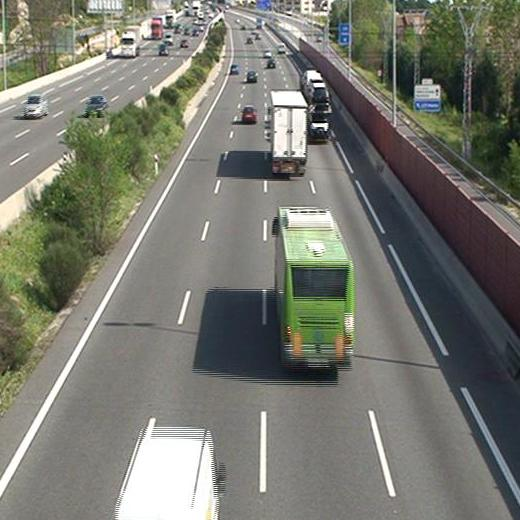bus: (273, 207, 354, 370)
car: (312, 82, 329, 107), (242, 105, 258, 123), (245, 71, 258, 85), (266, 58, 276, 69), (229, 65, 239, 74)
truck: (268, 92, 308, 175)
